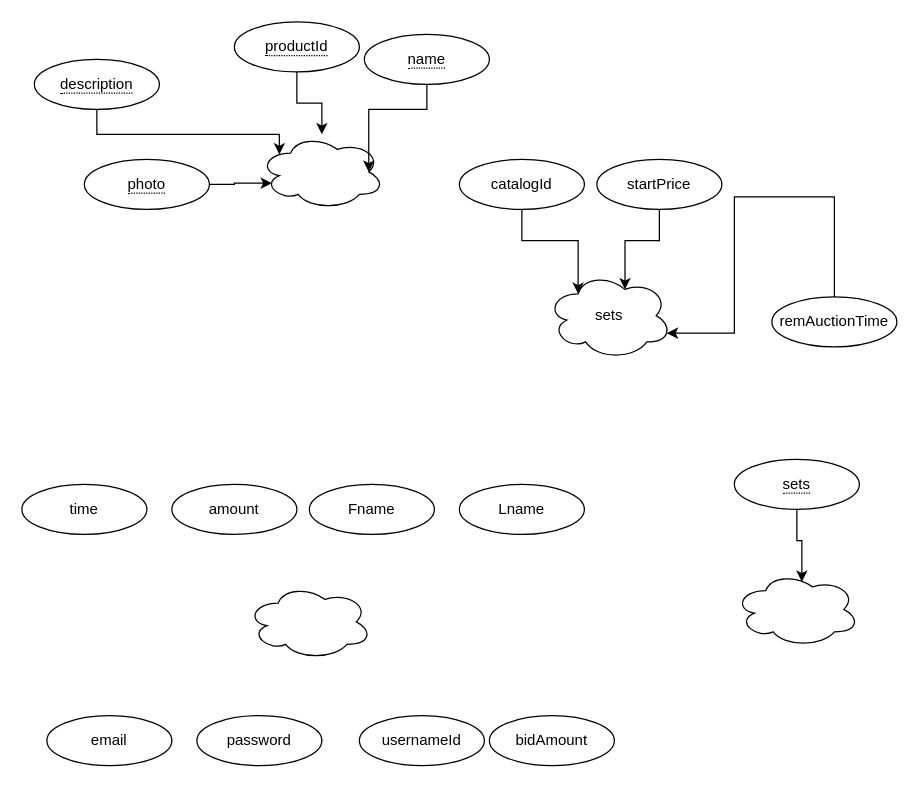
Image size: 919x788. Some labels were removed from this diagram. Here are the shapes that lost their labels. From the top down, the centre of each, then its label:
At point (321, 171): "products".
At point (309, 621): "Customers".
At point (796, 609): "auctionHouse".
